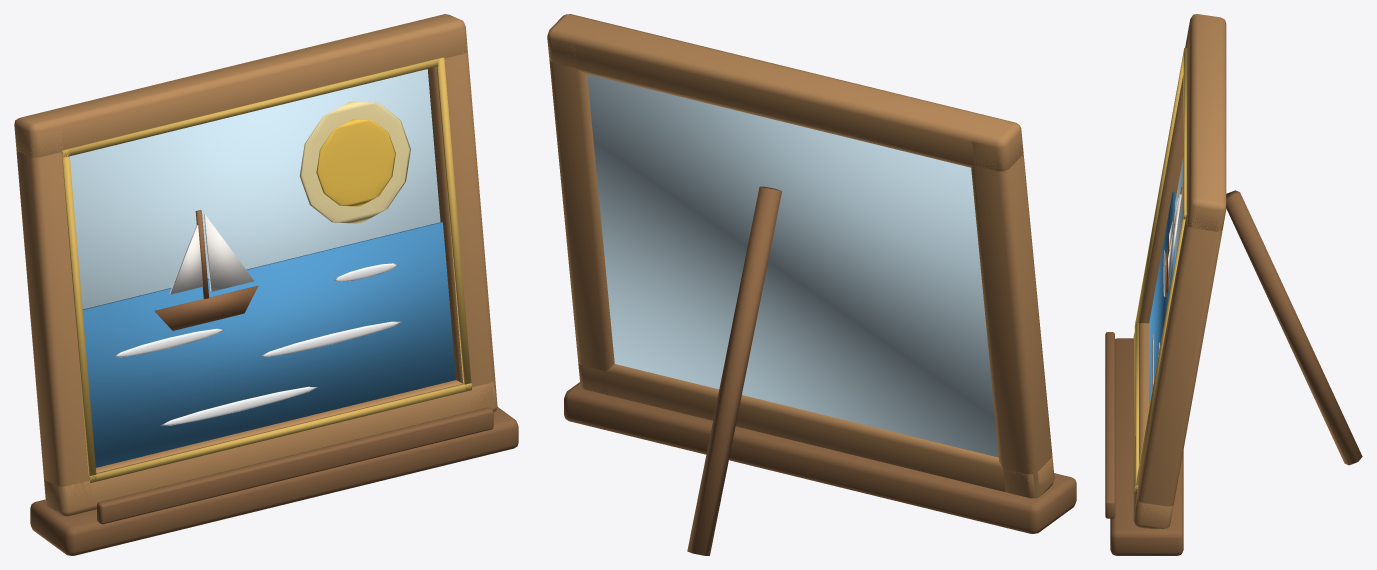
Rendered from art-sea-morning.glb.
The picture shows the model from 3 angles, left to right: view 1: azimuth 30°, elevation 25°; view 2: azimuth 150°, elevation 25°; view 3: azimuth 270°, elevation 25°; orthographic projection. The views are drawn at different scales.
Visible parts, largest first — view 1: art; view 2: art; view 3: art.
Boxes of the visible parts, x1,y1,x2,y2 form: art: (14,14,518,555); art: (547,14,1076,555); art: (1105,14,1362,555).
Size of the model in its own units: 0.57 by 0.4826 by 0.3151.
